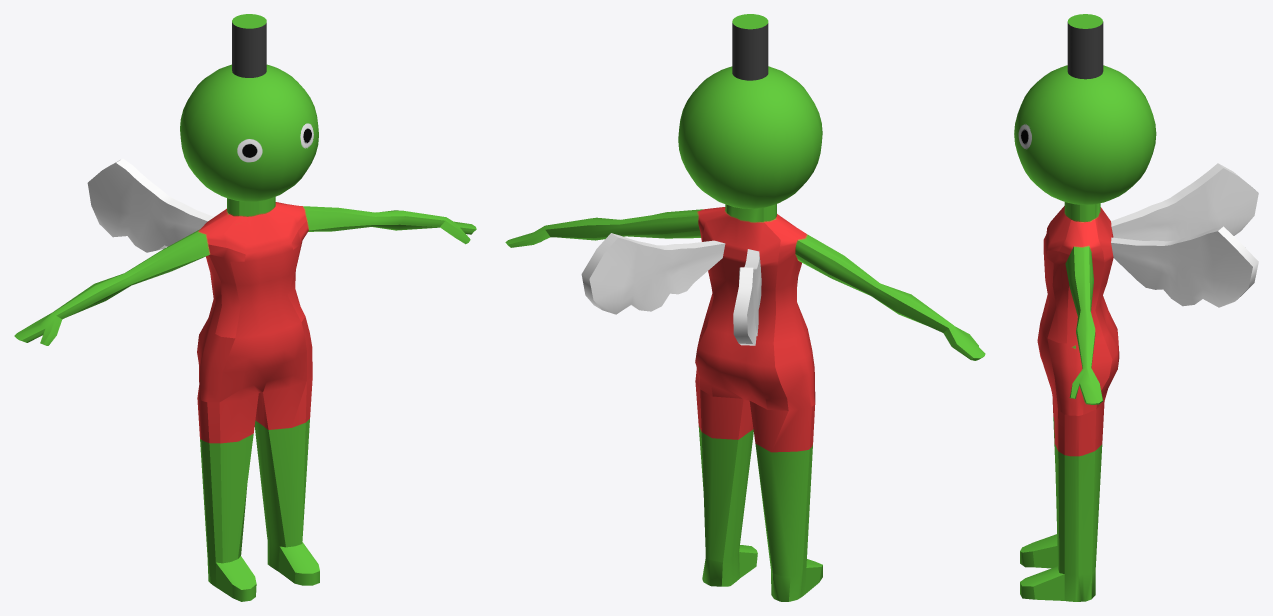
Rendered from faily1.fbx.
3 renders of one model, left to right at view 1: azimuth 30°, elevation 25°; view 2: azimuth 150°, elevation 25°; view 3: azimuth 270°, elevation 25°, orthographic. The views are drawn at different scales.
Parts seen in each view (by area): view 1: pCube1, pSphere1, pCylinder1; view 2: pCube1, pSphere1, pCylinder1; view 3: pCube1, pSphere1, pCylinder1.
Part boxes in pixels (x1=…): pCube1: x1=14, y1=159, x2=476, y2=601; pSphere1: x1=180, y1=64, x2=318, y2=201; pCylinder1: x1=232, y1=14, x2=266, y2=77; pCube1: x1=505, y1=204, x2=985, y2=601; pSphere1: x1=678, y1=66, x2=822, y2=208; pCylinder1: x1=732, y1=14, x2=768, y2=80; pCube1: x1=1020, y1=163, x2=1258, y2=601; pSphere1: x1=1014, y1=65, x2=1156, y2=204; pCylinder1: x1=1067, y1=14, x2=1103, y2=79.
Size of the model in its own units: 15.15 by 17.31 by 6.88.
Materials: 3 (3 with a texture image).
